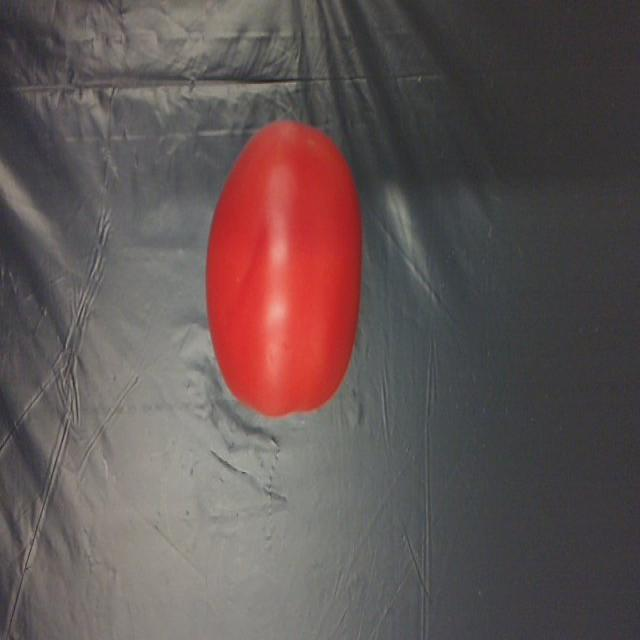kirmizi: (200, 116, 377, 432)
